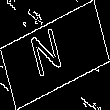N_S: (35, 25, 75, 85)
